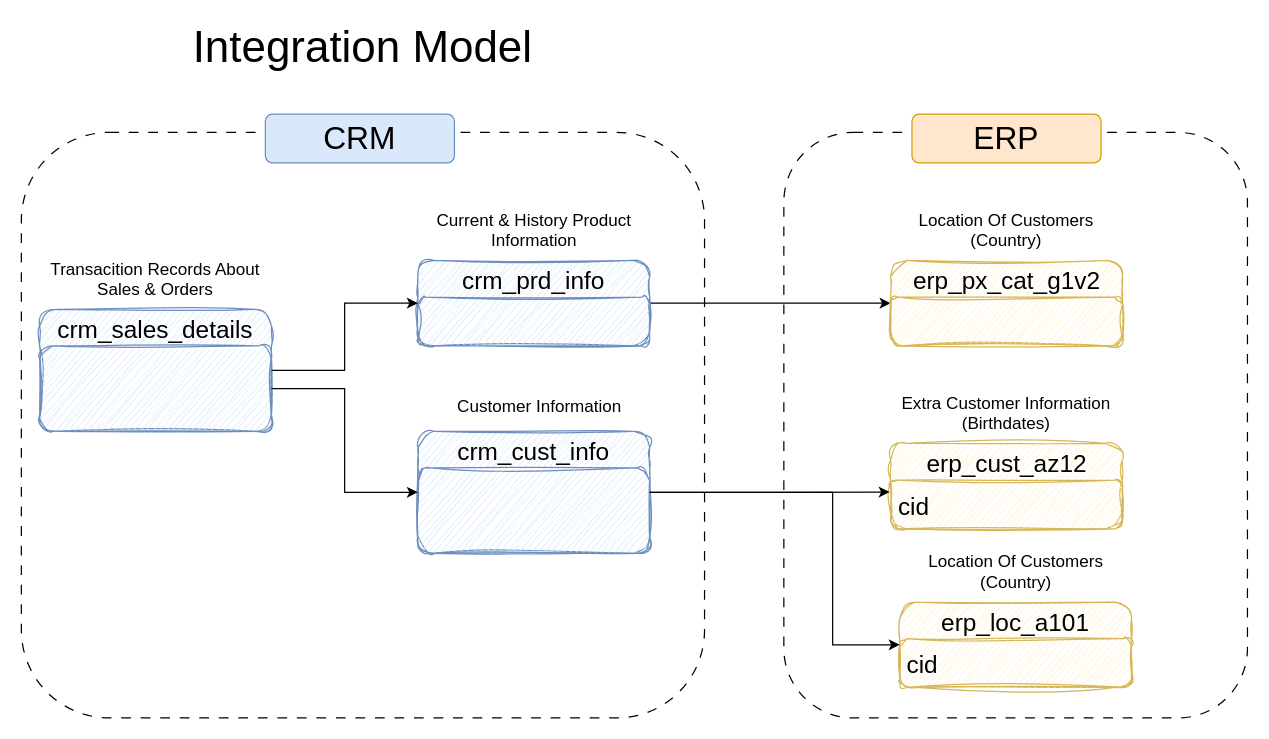
Some shapes in this 1269 by 739 pixel diagram are drawn without their labels. The shapes that lost their labels are listed below. From the top down, each one's centre as x and y in pixels, then its label:
point (533, 321): prd_key
point (1005, 321): id
point (154, 388): prd_ky cst_id
point (533, 510): cst_id cst_key
